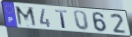0: (73, 10, 90, 32)
2: (110, 13, 128, 34)
4: (39, 9, 51, 29)
6: (91, 11, 109, 33)
M: (14, 5, 39, 28)
T: (54, 9, 69, 30)
